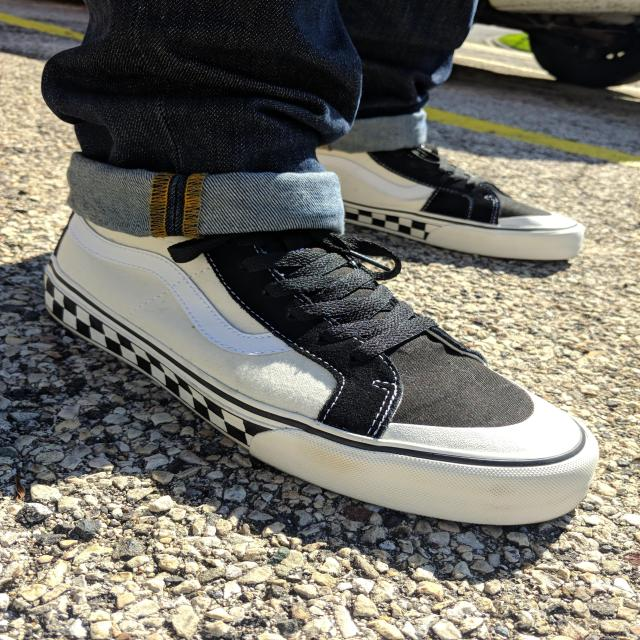shoe: (50, 85, 605, 587), (354, 23, 602, 293)
